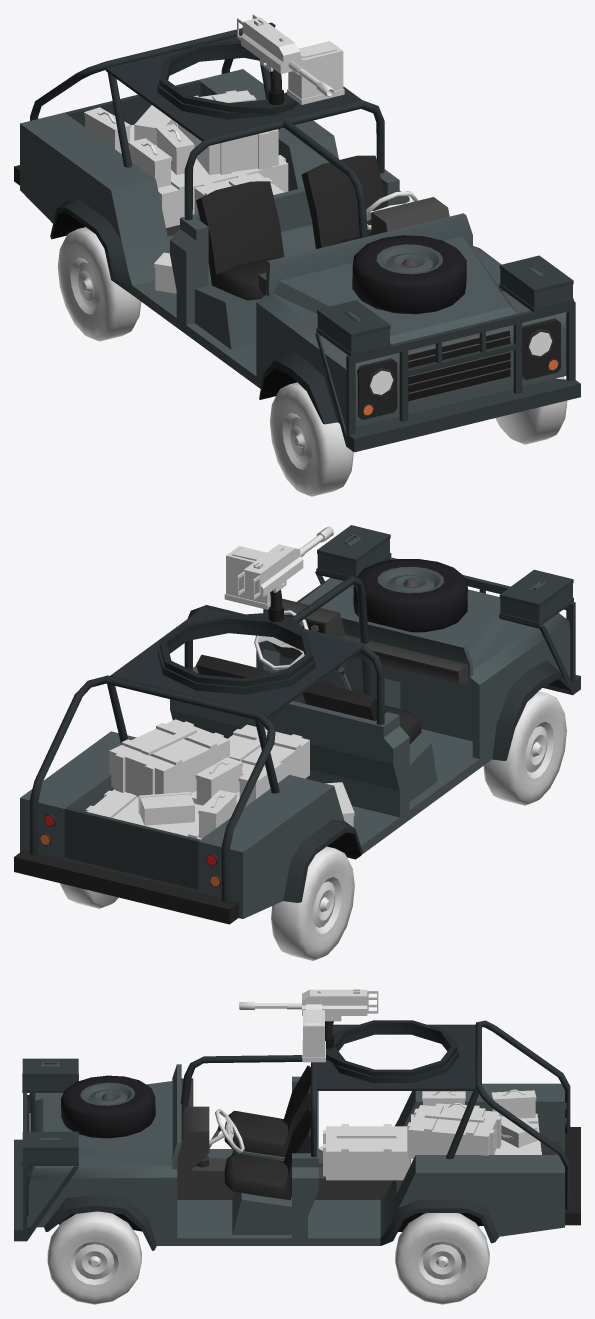
Rendered from Car2.fbx.
The picture shows the model from 3 angles, top to bottom: view 1: azimuth 30°, elevation 25°; view 2: azimuth 150°, elevation 25°; view 3: azimuth 270°, elevation 25°; orthographic projection. The views are drawn at different scales.
Parts seen in each view (by area): view 1: CarBody, FR, BR, CarGun, AmmoBox.006, WeaponRotator, AmmoBox.009, FL, AmmoBox.003, AmmoBox.001, AmmoBox.002, AmmoBox.004 (+2 smaller); view 2: CarBody, AmmoBox.006, BR, FR, CarGun, WeaponRotator, AmmoBox.007, AmmoBox.008, AmmoBox.004, AmmoBox.001, AmmoBox.002, BL (+2 smaller); view 3: CarBody, FL, BL, AmmoBox.007, AmmoBox.006, CarGun, WeaponRotator, AmmoBox.002, AmmoBox.004, AmmoBox.008, rudder, AmmoBox.003.
Boxes of the visible parts, x1=… form: CarBody: x1=14, y1=22, x2=580, y2=452; FR: x1=270, y1=382, x2=353, y2=496; BR: x1=57, y1=227, x2=141, y2=341; CarGun: x1=237, y1=14, x2=344, y2=104; AmmoBox.006: x1=178, y1=90, x2=278, y2=174; WeaponRotator: x1=159, y1=40, x2=297, y2=114; AmmoBox.009: x1=158, y1=155, x2=288, y2=227; FL: x1=495, y1=376, x2=567, y2=444; AmmoBox.003: x1=128, y1=138, x2=171, y2=187; AmmoBox.001: x1=156, y1=124, x2=194, y2=174; AmmoBox.002: x1=84, y1=107, x2=130, y2=153; AmmoBox.004: x1=134, y1=105, x2=177, y2=144; CarBody: x1=14, y1=525, x2=580, y2=924; AmmoBox.006: x1=109, y1=719, x2=229, y2=796; BR: x1=271, y1=846, x2=354, y2=960; FR: x1=483, y1=691, x2=566, y2=805; CarGun: x1=224, y1=526, x2=333, y2=609; WeaponRotator: x1=159, y1=589, x2=313, y2=686; AmmoBox.007: x1=228, y1=724, x2=309, y2=780; AmmoBox.008: x1=85, y1=789, x2=202, y2=839; AmmoBox.004: x1=138, y1=792, x2=194, y2=825; AmmoBox.001: x1=195, y1=757, x2=243, y2=804; AmmoBox.002: x1=198, y1=790, x2=237, y2=838; BL: x1=59, y1=883, x2=118, y2=908; CarBody: x1=14, y1=1020, x2=580, y2=1250; FL: x1=47, y1=1211, x2=141, y2=1304; BL: x1=395, y1=1213, x2=489, y2=1304; AmmoBox.007: x1=323, y1=1124, x2=410, y2=1180; AmmoBox.006: x1=407, y1=1104, x2=501, y2=1158; CarGun: x1=239, y1=989, x2=378, y2=1062; WeaponRotator: x1=325, y1=1020, x2=457, y2=1076; AmmoBox.002: x1=491, y1=1089, x2=536, y2=1118; AmmoBox.004: x1=501, y1=1116, x2=537, y2=1147; AmmoBox.008: x1=495, y1=1113, x2=541, y2=1154; rudder: x1=209, y1=1109, x2=244, y2=1153; AmmoBox.003: x1=422, y1=1091, x2=465, y2=1106.
Size of the model in its own units: 236 by 291 by 559.
